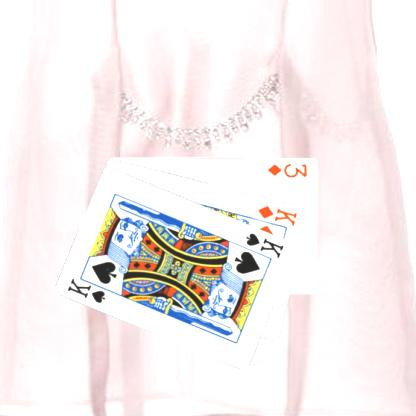3D: (265, 160, 308, 178)
KD: (255, 203, 299, 227)
KS: (65, 274, 114, 304), (243, 230, 286, 259)
